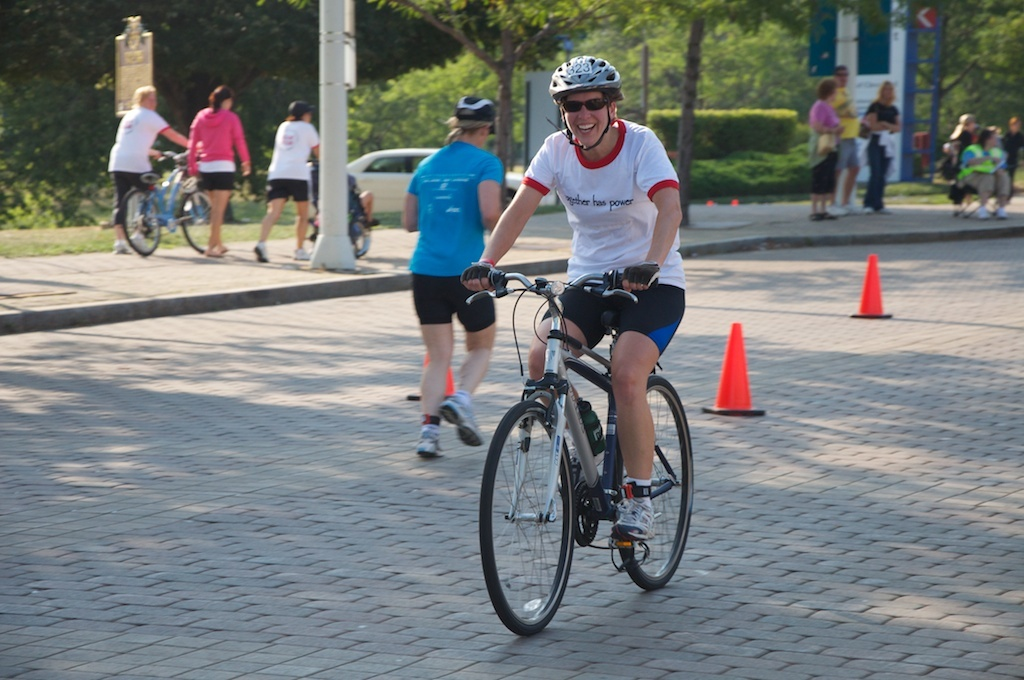Bike: (418, 245, 745, 637)
